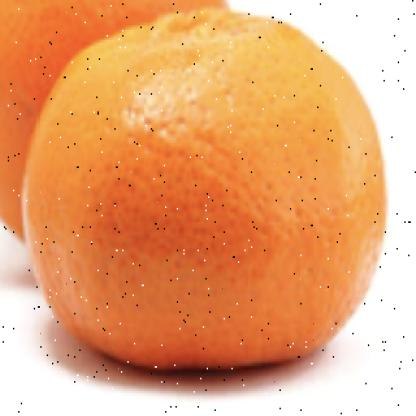fresh: (20, 9, 391, 373)
